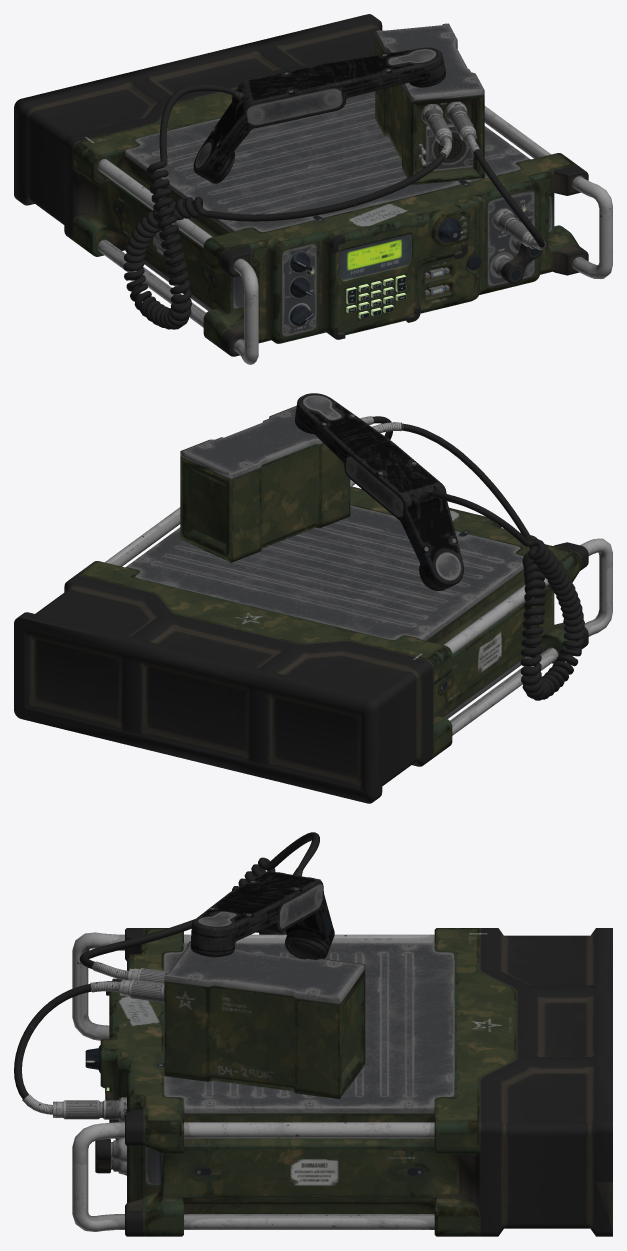
File: radio.glb
3 views of the same model, one above another, from view 1: azimuth 30°, elevation 25°; view 2: azimuth 150°, elevation 25°; view 3: azimuth 270°, elevation 25° (orthographic). The views are drawn at different scales.
Visible parts, largest first — view 1: final_low, glass_low; view 2: final_low; view 3: final_low.
Part boxes in pixels (bbox=[...]): final_low: bbox=[14, 14, 612, 364]; glass_low: bbox=[339, 234, 411, 280]; final_low: bbox=[14, 393, 612, 803]; final_low: bbox=[14, 832, 612, 1236].
Bounding box in the file's own units: 75.7 × 40.99 × 88.38.
1 material, 1 textured.
